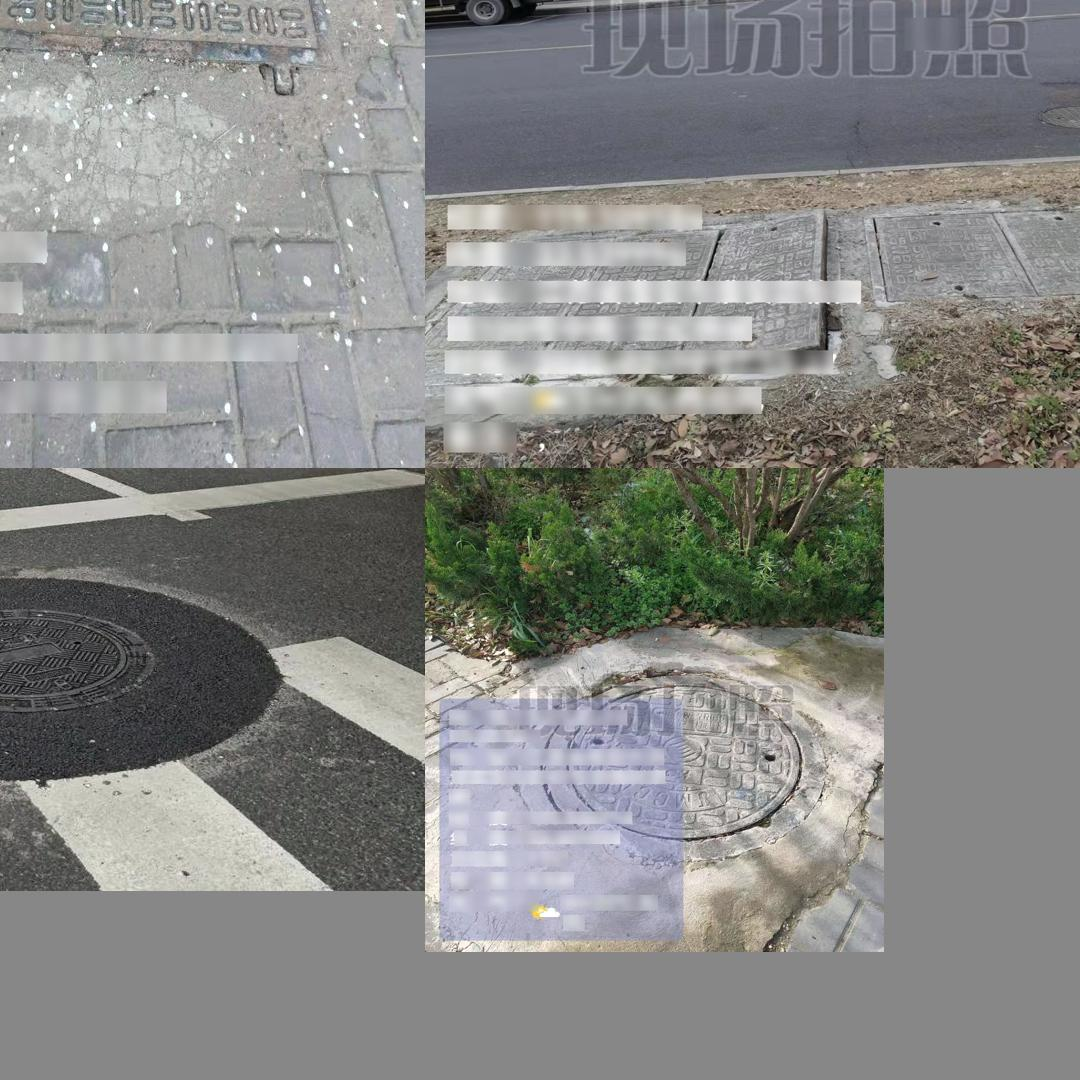good: (0, 554, 284, 796), (543, 676, 826, 863), (0, 0, 330, 109), (864, 199, 1080, 315)
uncovered: (431, 212, 836, 395)
